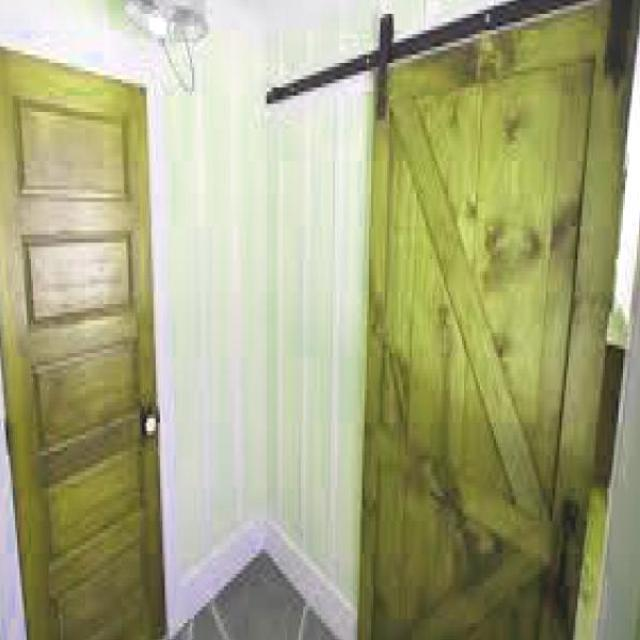door: (0, 46, 165, 638)
